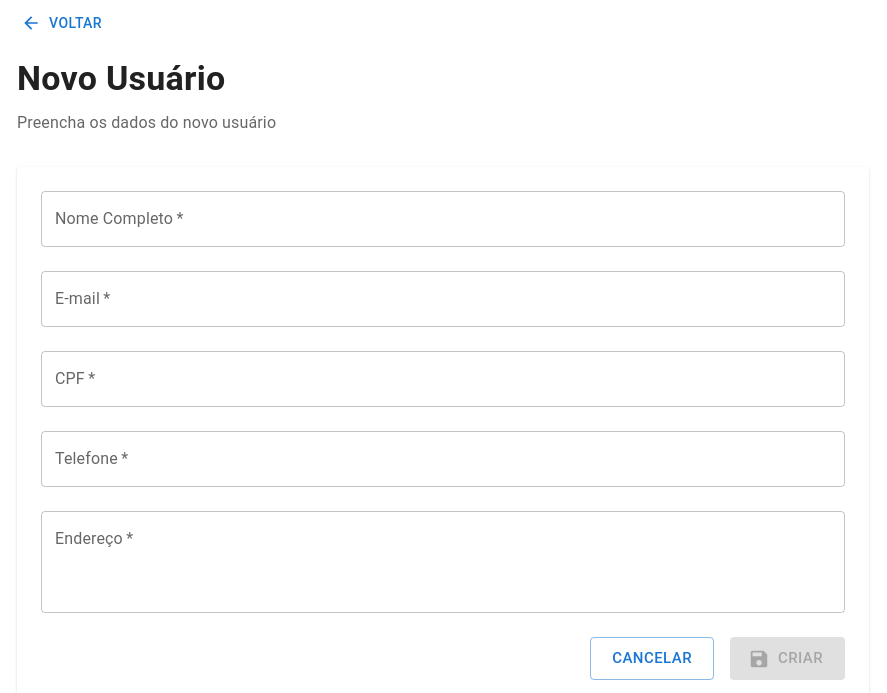
Test: UserForm › should format CPF while typing
Type "12345678901" into the field labelled "CPF *" at (443, 379), box x1=41 y1=351 x2=845 y2=407
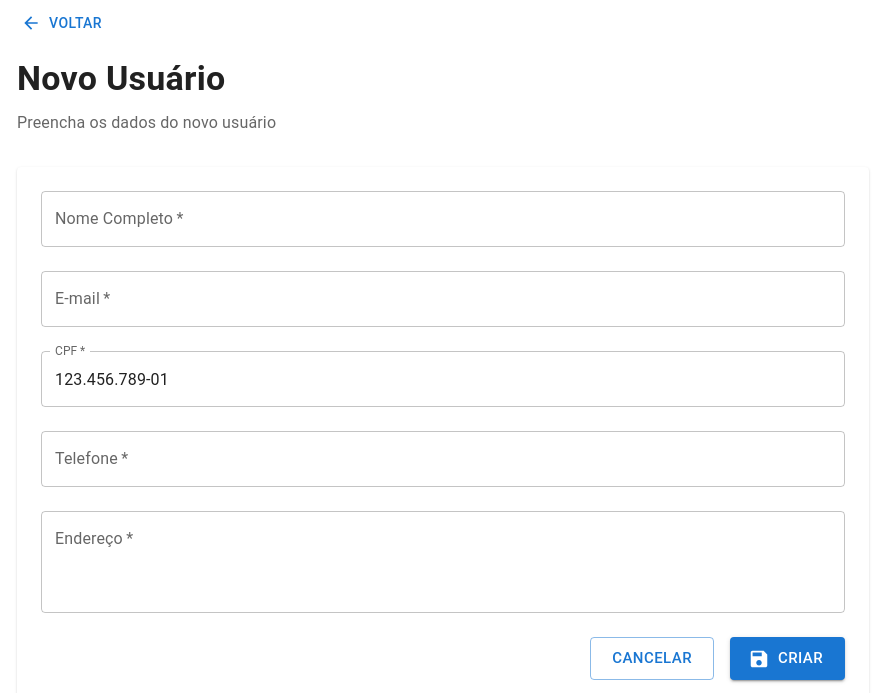
Now the field labelled "CPF *" holds "123.456.789-01", box x1=41 y1=351 x2=845 y2=407
